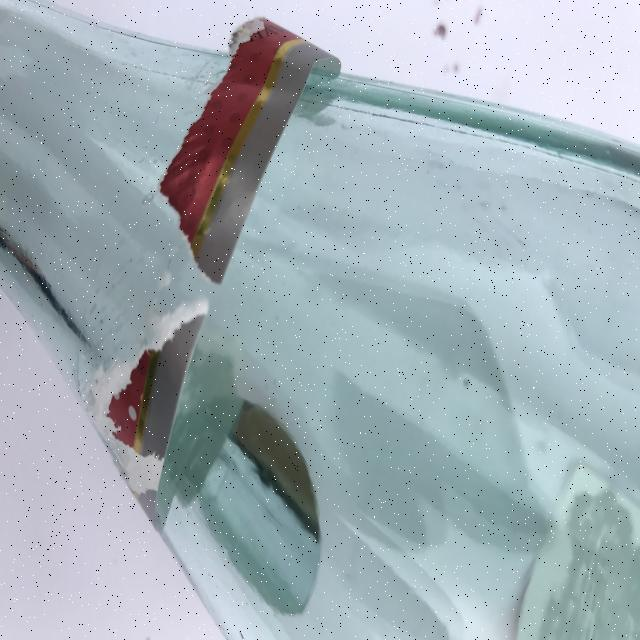glass: (1, 1, 639, 638)
